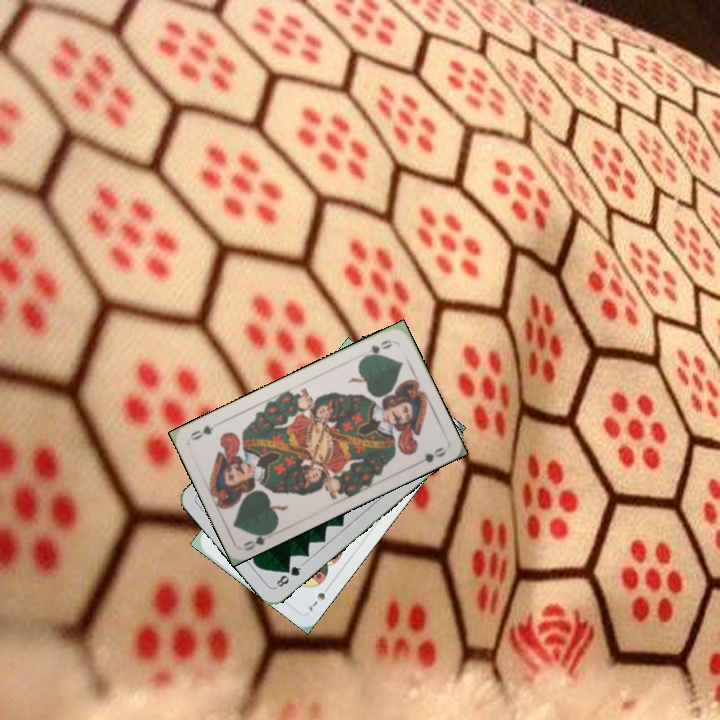G8: (271, 560, 305, 590)
GO: (239, 526, 277, 554), (359, 336, 396, 361)
S7: (305, 580, 334, 614)
